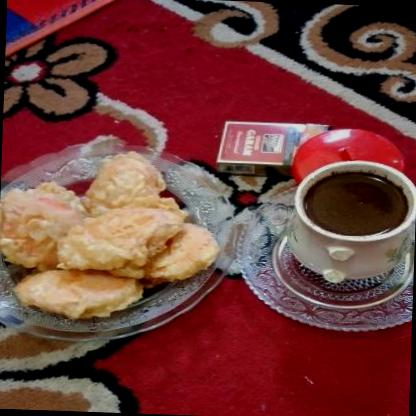objects: (217, 121, 331, 178)
